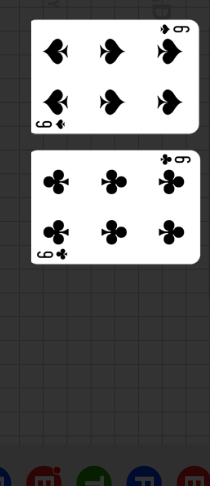6C: (35, 246, 70, 260)
6S: (35, 117, 68, 130)
